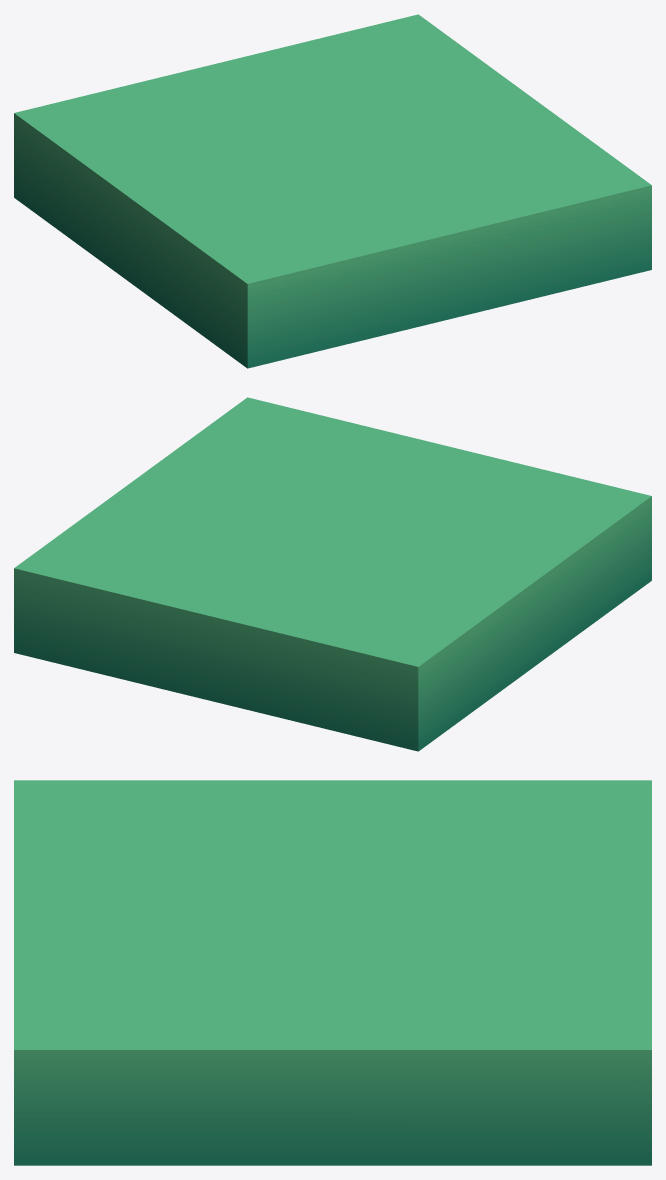
Rendered from tile.glb.
3 renders of one model, top to bottom at view 1: azimuth 30°, elevation 25°; view 2: azimuth 150°, elevation 25°; view 3: azimuth 270°, elevation 25°, orthographic. The views are drawn at different scales.
Parts seen in each view (by area): view 1: tile; view 2: tile; view 3: tile.
Boxes of the visible parts, bbox=[...] form: tile: bbox=[14, 14, 651, 368]; tile: bbox=[14, 397, 651, 751]; tile: bbox=[14, 780, 651, 1165].
Bounding box in the file's own units: 1 × 0.2 × 1.
1 material, 1 textured.
